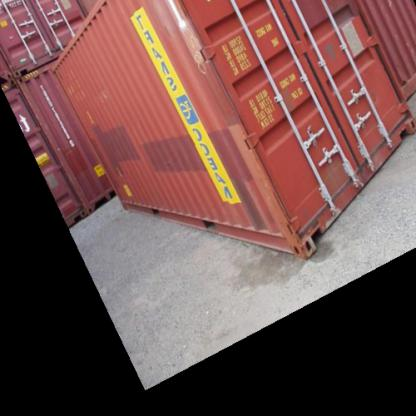Damage: (240, 129, 303, 252), (324, 140, 374, 210), (165, 0, 211, 63)
